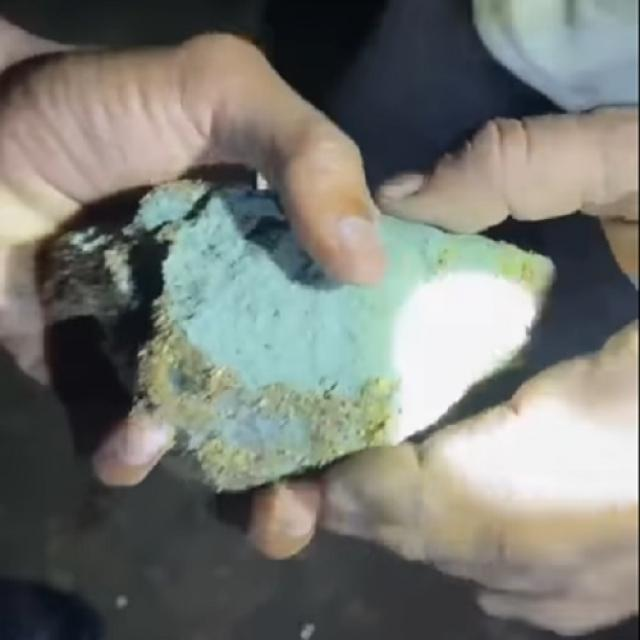Pecahan Agregat: (50, 173, 608, 490)
